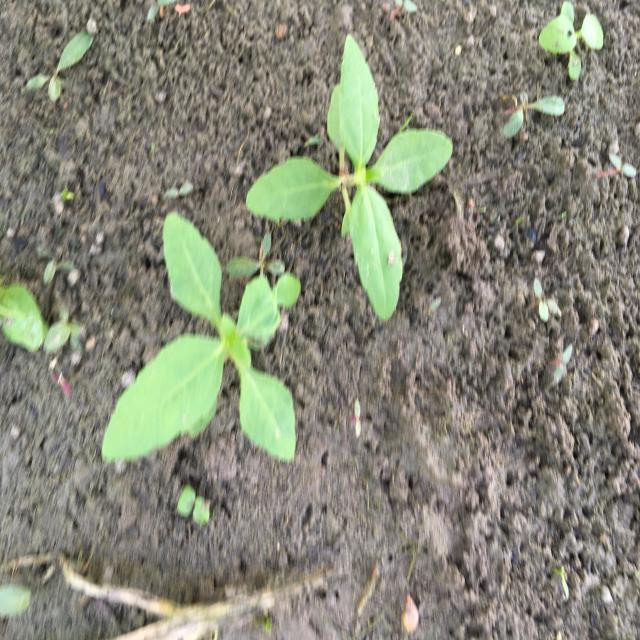Eclipta: (244, 31, 455, 324), (99, 208, 303, 464)
